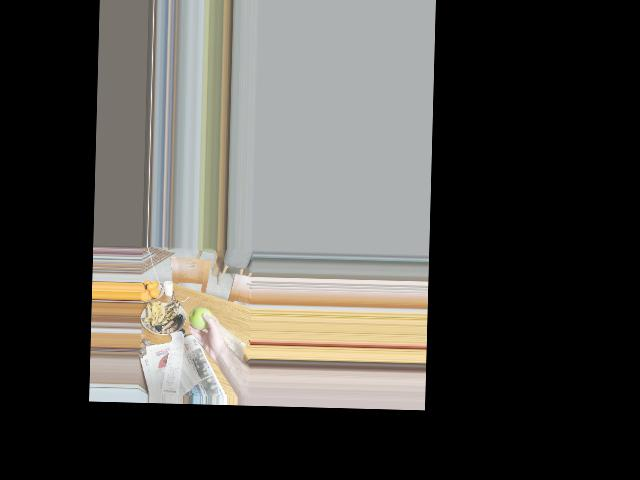apple: (188, 305, 214, 334)
